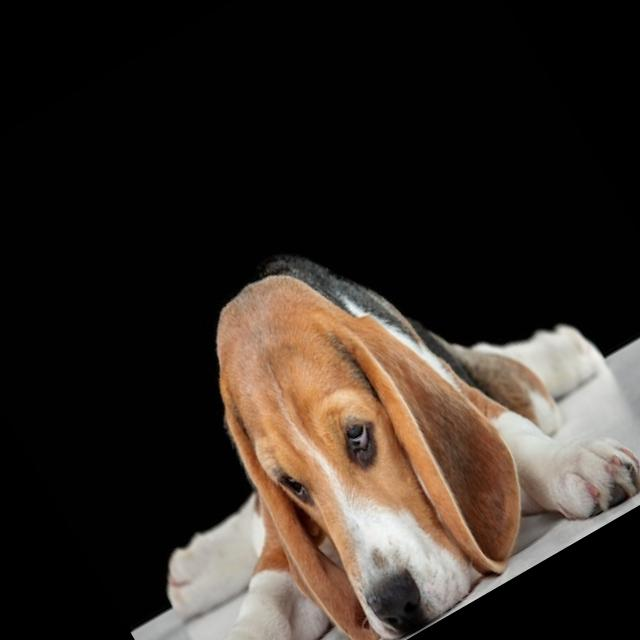Dog: (4, 138, 640, 640)
